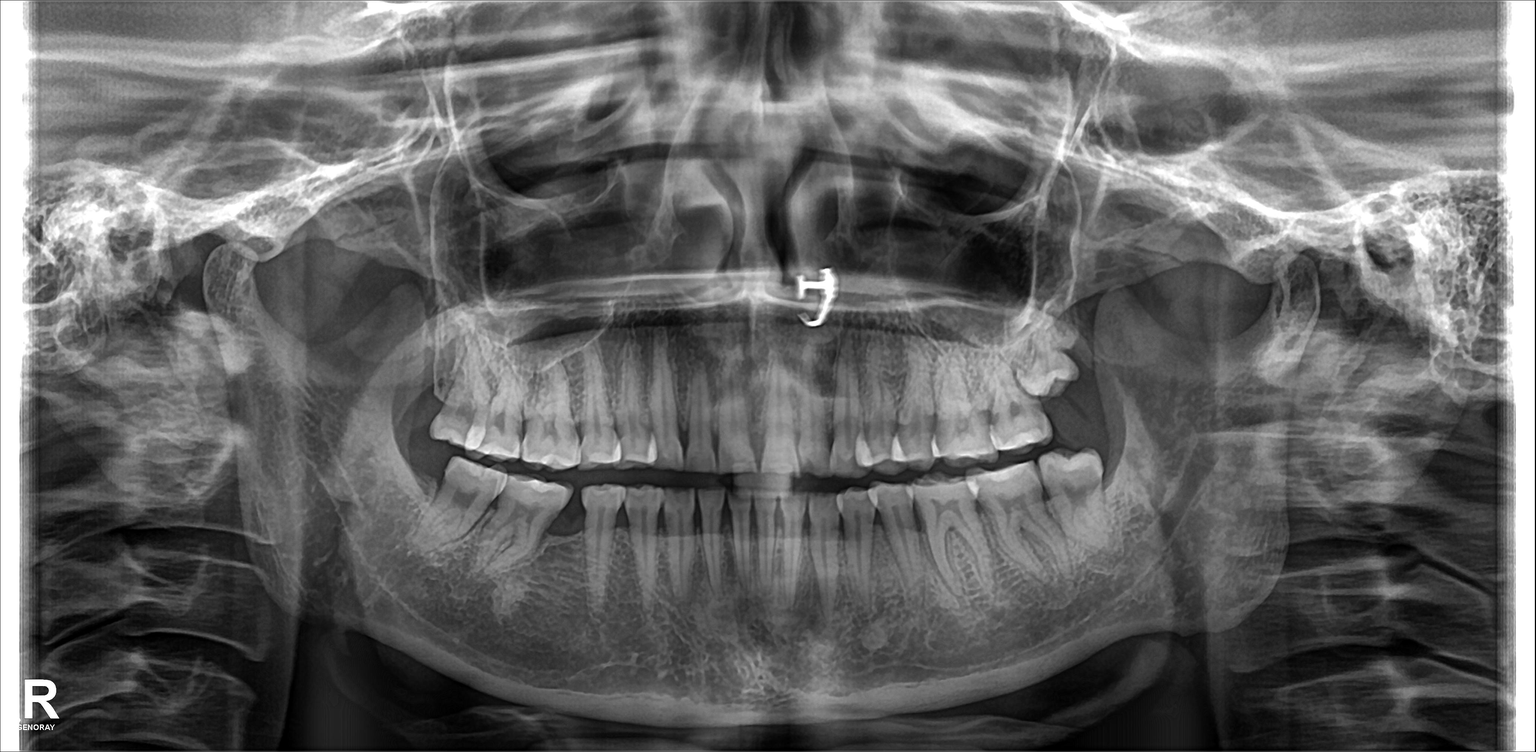Impacted Third Molar: (1052, 446, 1111, 548), (1019, 324, 1079, 392)
Missing Tooth: (402, 443, 434, 547), (559, 493, 588, 591)
